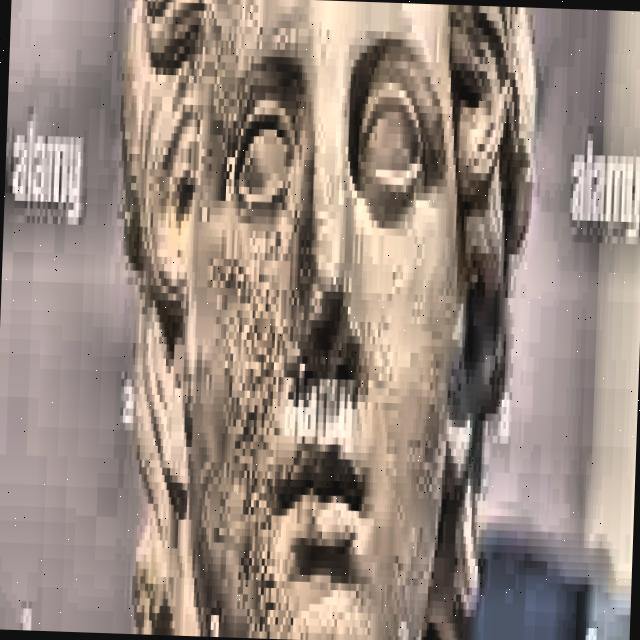alexander the great monument: (108, 0, 524, 639)
